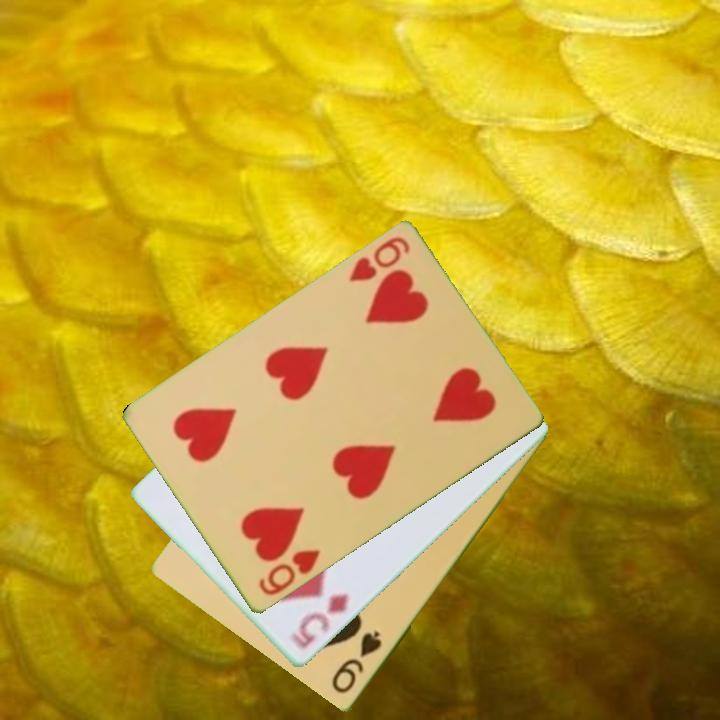5d: (288, 590, 351, 653)
6h: (255, 546, 323, 600), (345, 233, 413, 286)
9s: (328, 628, 385, 698)
